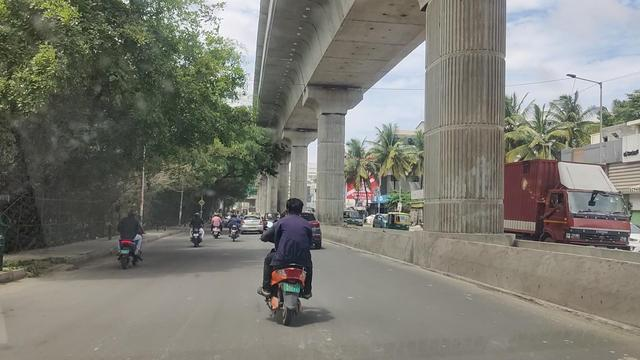LMV: (261, 185, 321, 339), (120, 205, 145, 267), (191, 209, 206, 249), (228, 208, 245, 243)
